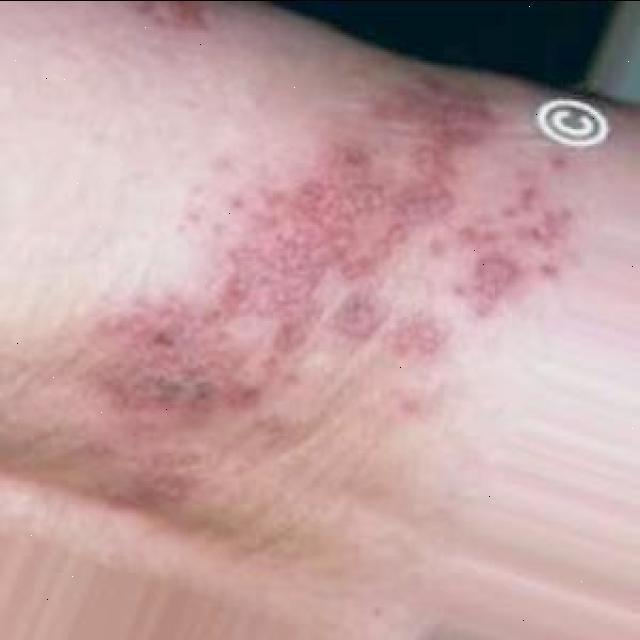Shingles: (111, 93, 556, 396)
